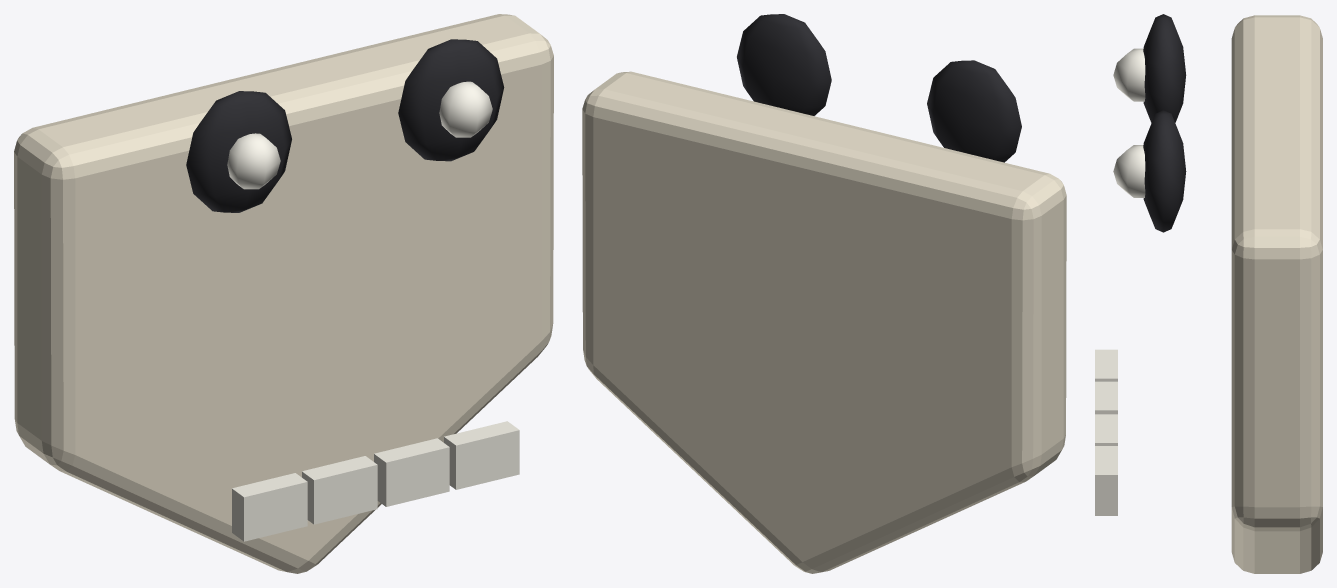
File: mask_bone_mask.glb
3 renders of one model, left to right at view 1: azimuth 30°, elevation 25°; view 2: azimuth 150°, elevation 25°; view 3: azimuth 270°, elevation 25°, orthographic. The views are drawn at different scales.
Parts seen in each view (by area): view 1: GD_mask_bone_mask__m0, GD_mask_bone_mask__m2, GD_mask_bone_mask__m1; view 2: GD_mask_bone_mask__m0, GD_mask_bone_mask__m1; view 3: GD_mask_bone_mask__m0, GD_mask_bone_mask__m1, GD_mask_bone_mask__m2.
Boxes of the visible parts, x1,y1,x2,y2 form: GD_mask_bone_mask__m0: (14,14,553,573); GD_mask_bone_mask__m2: (227,81,519,541); GD_mask_bone_mask__m1: (186,39,504,212); GD_mask_bone_mask__m0: (582,71,1066,573); GD_mask_bone_mask__m1: (737,14,1021,162); GD_mask_bone_mask__m0: (1231,15,1322,573); GD_mask_bone_mask__m1: (1143,14,1186,232); GD_mask_bone_mask__m2: (1095,48,1145,515).
Bounding box in the file's own units: 0.24 × 0.2442 × 0.1.
